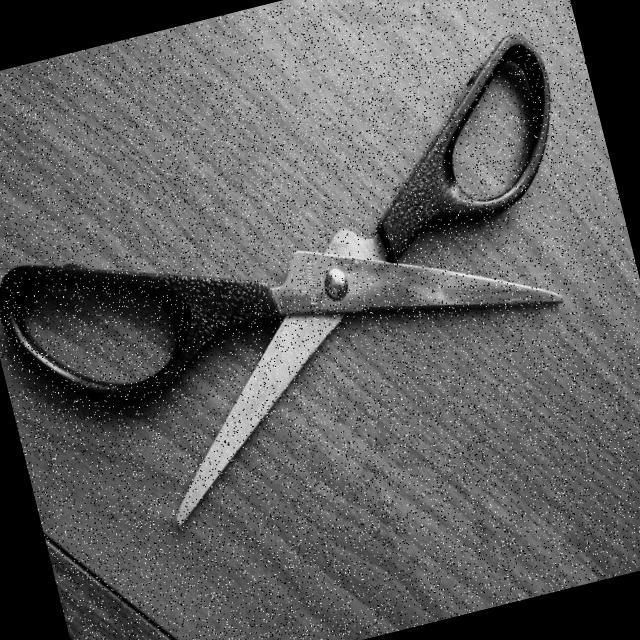scissors: (0, 20, 638, 560)
